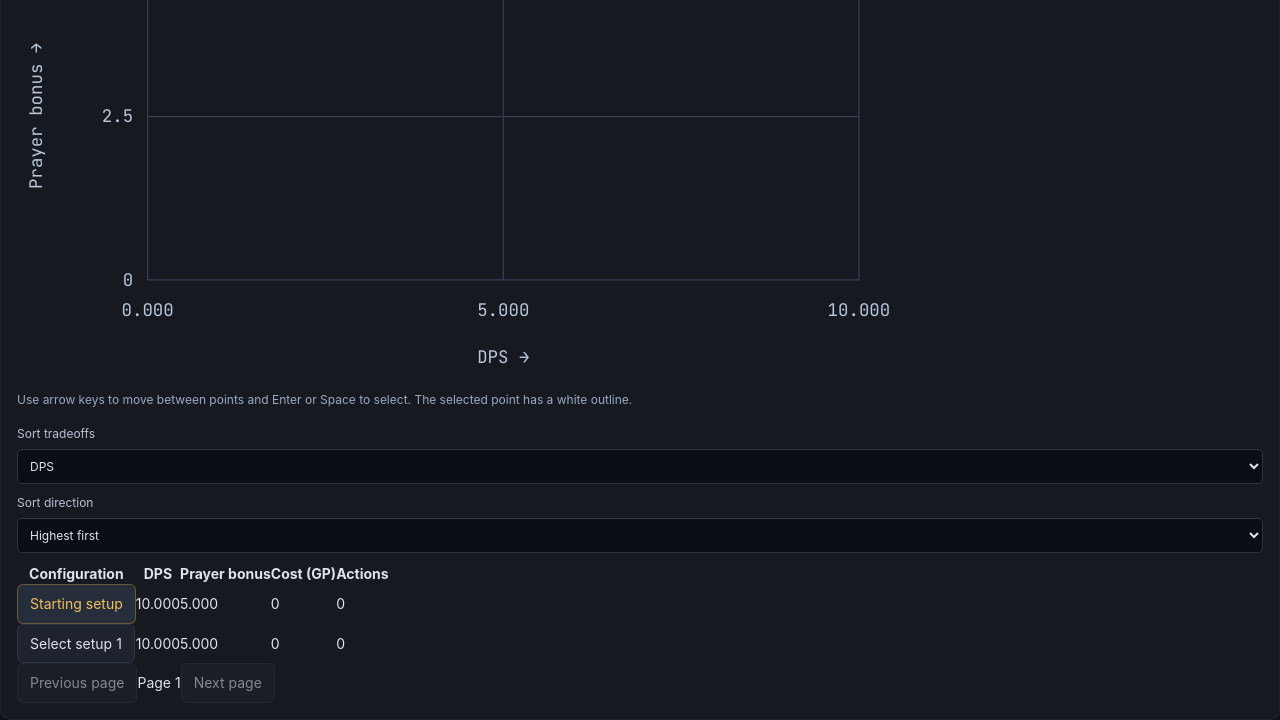
Scenario: cancels a pending selection after a new run
Later steps or results of the test are not shown.
(page scrolled)
What coordinates should you click on to do the following:
click the button "Select setup 1"
I would click on:
 (76, 644)
Its box is [17,624,135,663].
(page scrolled)
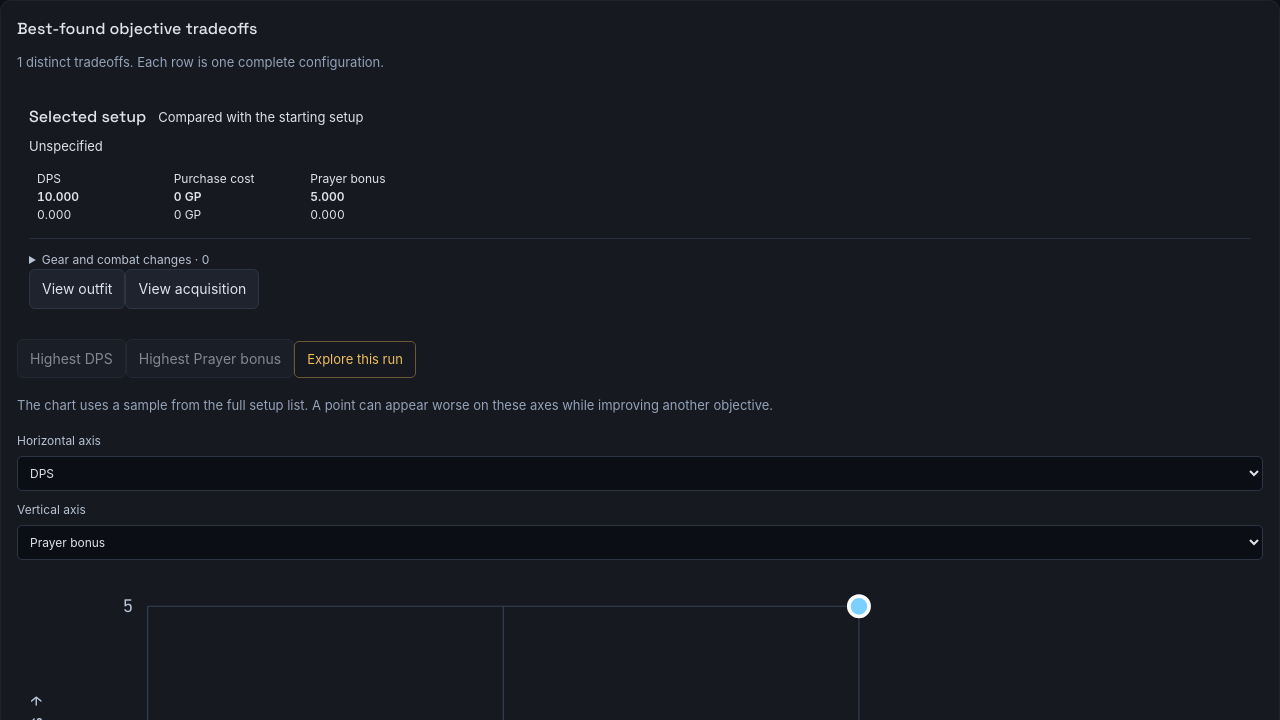
Result: the button "Highest DPS" is disabled at [17,339,126,378]
